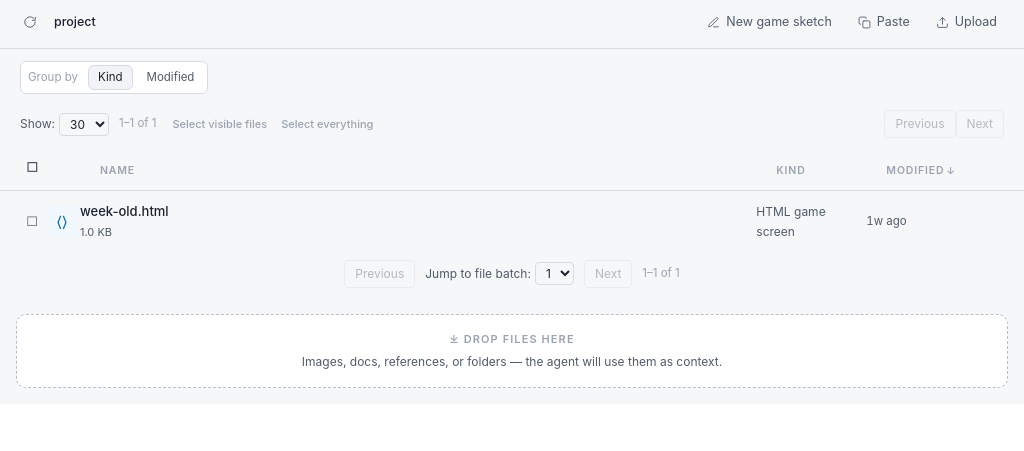
Scenario: GameFilesPanel grouping › keeps files from seven calendar days ago in the previous 7 days group
The width and height of the screenshot is (1024, 451).
Click the button "Modified". click: (170, 77)
box: [136, 65, 204, 90]
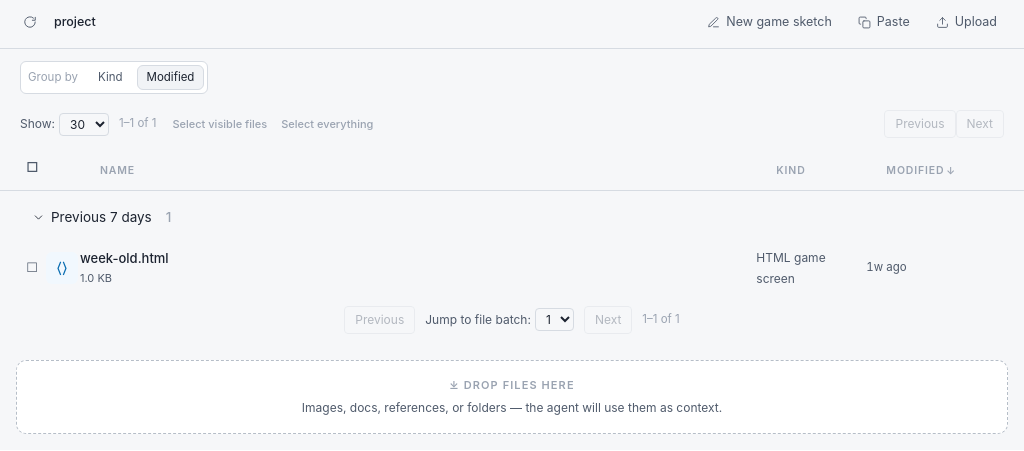
Expected: the row with test id "game-file-row-week-old.html" is shown, [0, 237, 1023, 298]
Expected: the text "Previous 7 days" is shown, [51, 207, 152, 227]
